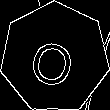O_N: (29, 28, 81, 87)
